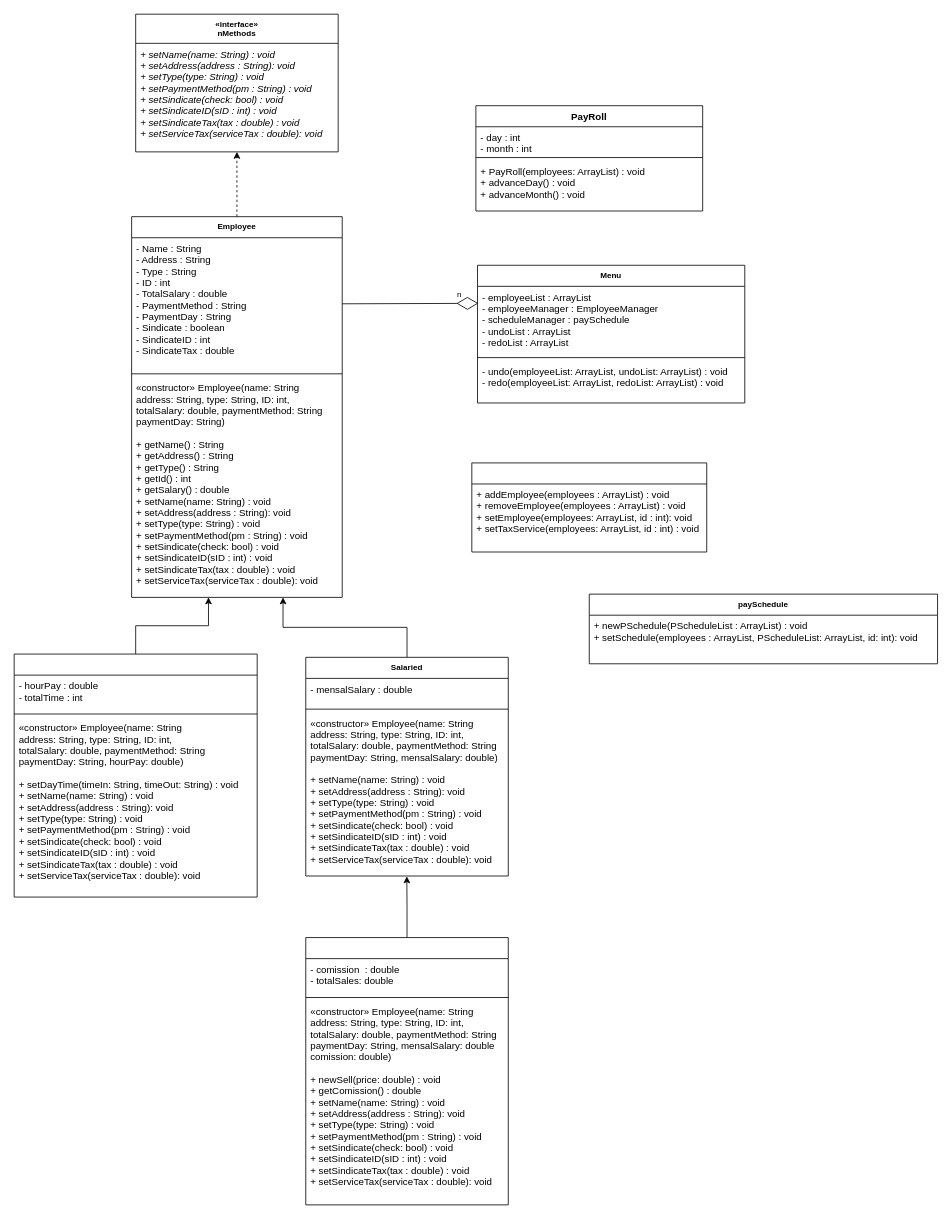
This 952x1221 diagram has some shape labels left out. The box of each missing label's shape, as (x1, y1, x2, y2) in pixels:
Comissioned: (305, 937, 508, 1205)
EmployeeManager: (471, 462, 707, 552)
Houly: (13, 653, 257, 897)
